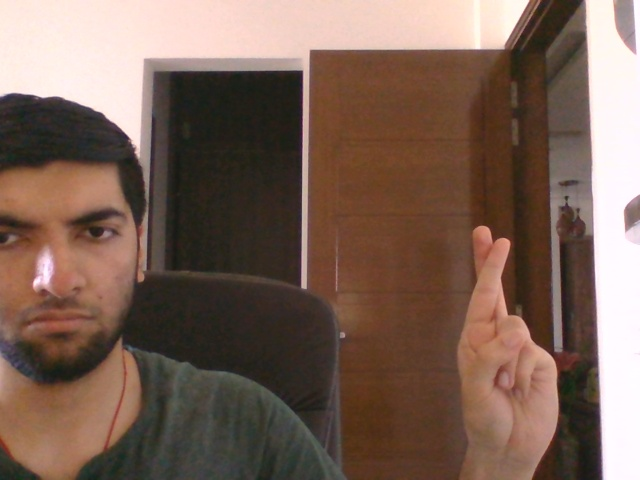LetterR: (454, 224, 561, 468)
